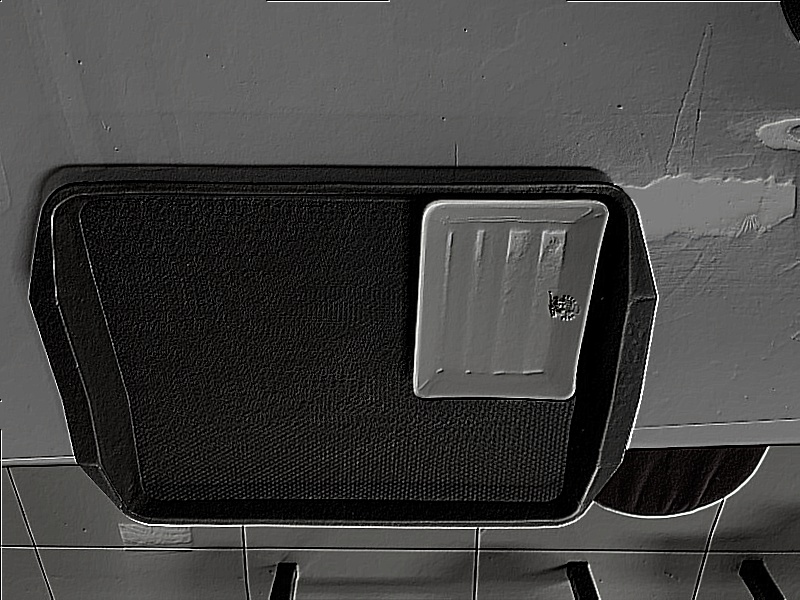dish4: (407, 194, 613, 403)
